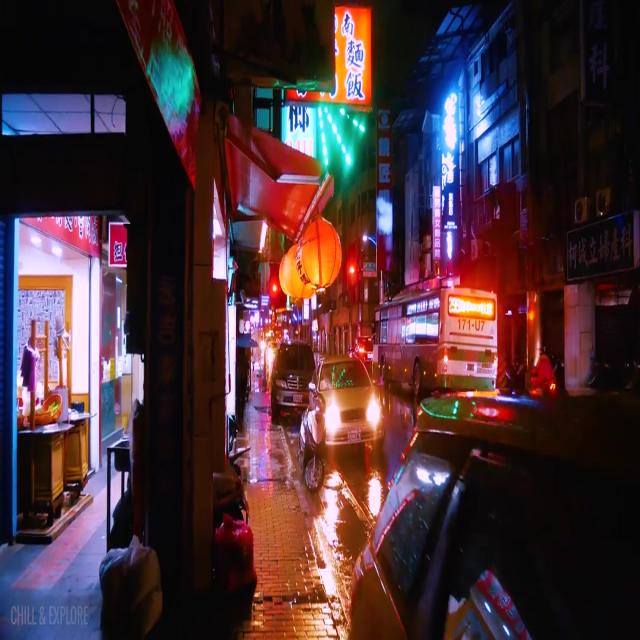Car: (317, 360, 380, 455)
